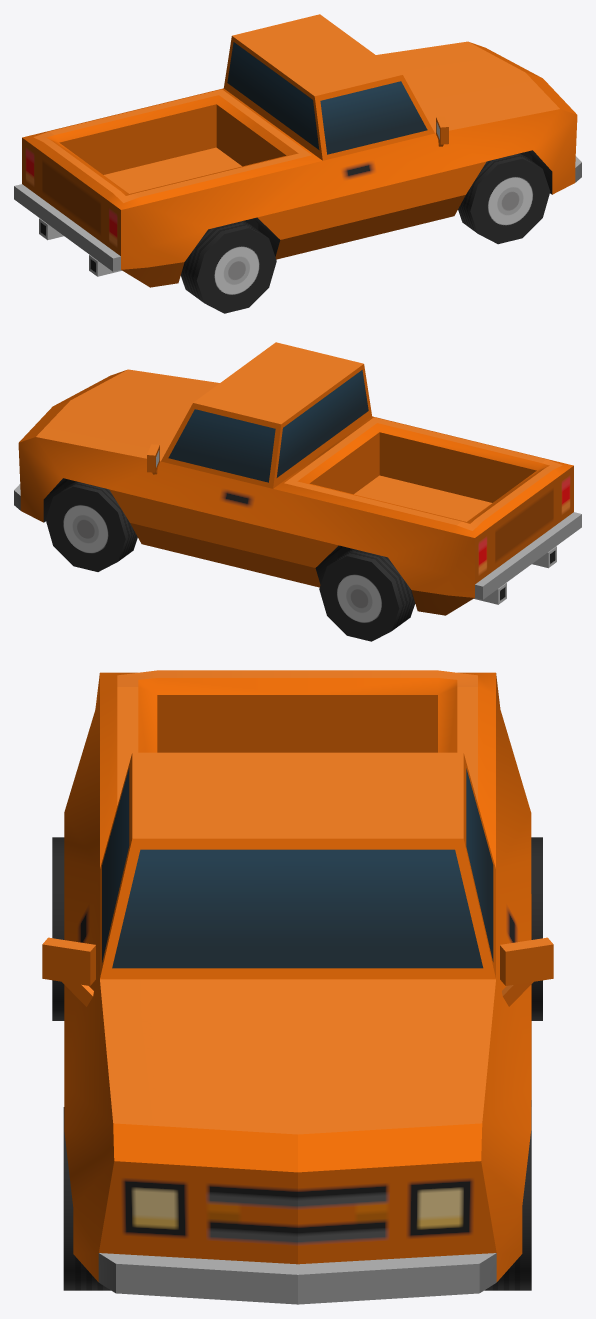
Rendered from Car_225.glb.
3 views of the same model, one above another, from view 1: azimuth 30°, elevation 25°; view 2: azimuth 150°, elevation 25°; view 3: azimuth 270°, elevation 25° (orthographic). The views are drawn at different scales.
Parts seen in each view (by area): view 1: Car_225, wheel_3_Car_225_Wheel_2R, wheel_1_Car_225_Wheel_1R; view 2: Car_225, wheel_2_Car_225_Wheel_2L, wheel_0_Car_225_Wheel_1L; view 3: Car_225, wheel_1_Car_225_Wheel_1R, wheel_0_Car_225_Wheel_1L, wheel_3_Car_225_Wheel_2R, wheel_2_Car_225_Wheel_2L.
Part boxes in pixels (left/top/right/bottom): Car_225: left=14, top=14, right=581, bottom=287; wheel_3_Car_225_Wheel_2R: left=180, top=221, right=276, bottom=313; wheel_1_Car_225_Wheel_1R: left=458, top=153, right=550, bottom=244; Car_225: left=14, top=342, right=581, bottom=615; wheel_2_Car_225_Wheel_2L: left=319, top=549, right=415, bottom=641; wheel_0_Car_225_Wheel_1L: left=45, top=481, right=137, bottom=571; Car_225: left=42, top=670, right=553, bottom=1304; wheel_1_Car_225_Wheel_1R: left=63, top=1107, right=110, bottom=1290; wheel_0_Car_225_Wheel_1L: left=484, top=1107, right=531, bottom=1290; wheel_3_Car_225_Wheel_2R: left=52, top=837, right=64, bottom=1020; wheel_2_Car_225_Wheel_2L: left=531, top=837, right=542, bottom=1020.
Size of the model in its own units: 4.26 by 1.48 by 1.95.
Materials: 1 (1 with a texture image).
